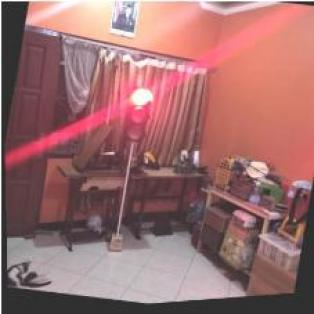Semaforo Rojo: (122, 86, 152, 144)
